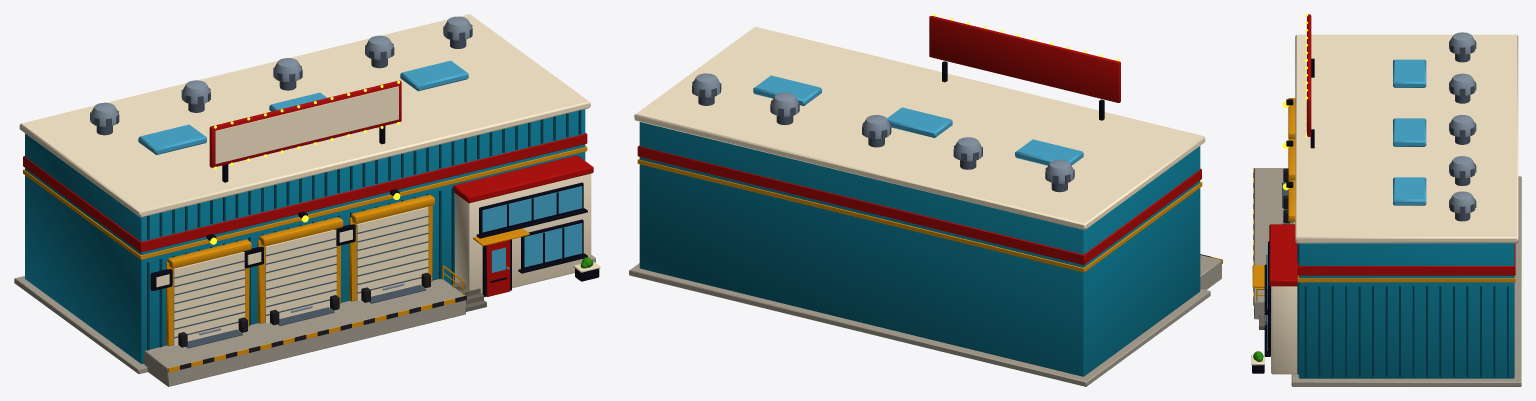
Rendered from DepotBuilding.fbx.
3 views of the same model, side by side, from view 1: azimuth 30°, elevation 25°; view 2: azimuth 150°, elevation 25°; view 3: azimuth 270°, elevation 25° (orthographic). The views are drawn at different scales.
Visible parts, largest first — view 1: DepotBuilding; view 2: DepotBuilding; view 3: DepotBuilding.
Boxes of the visible parts, x1,y1,x2,y2 form: DepotBuilding: (14,14,600,386); DepotBuilding: (629,14,1222,386); DepotBuilding: (1251,14,1521,386).
Bounding box in the file's own units: 35 × 16.26 × 19.41.
